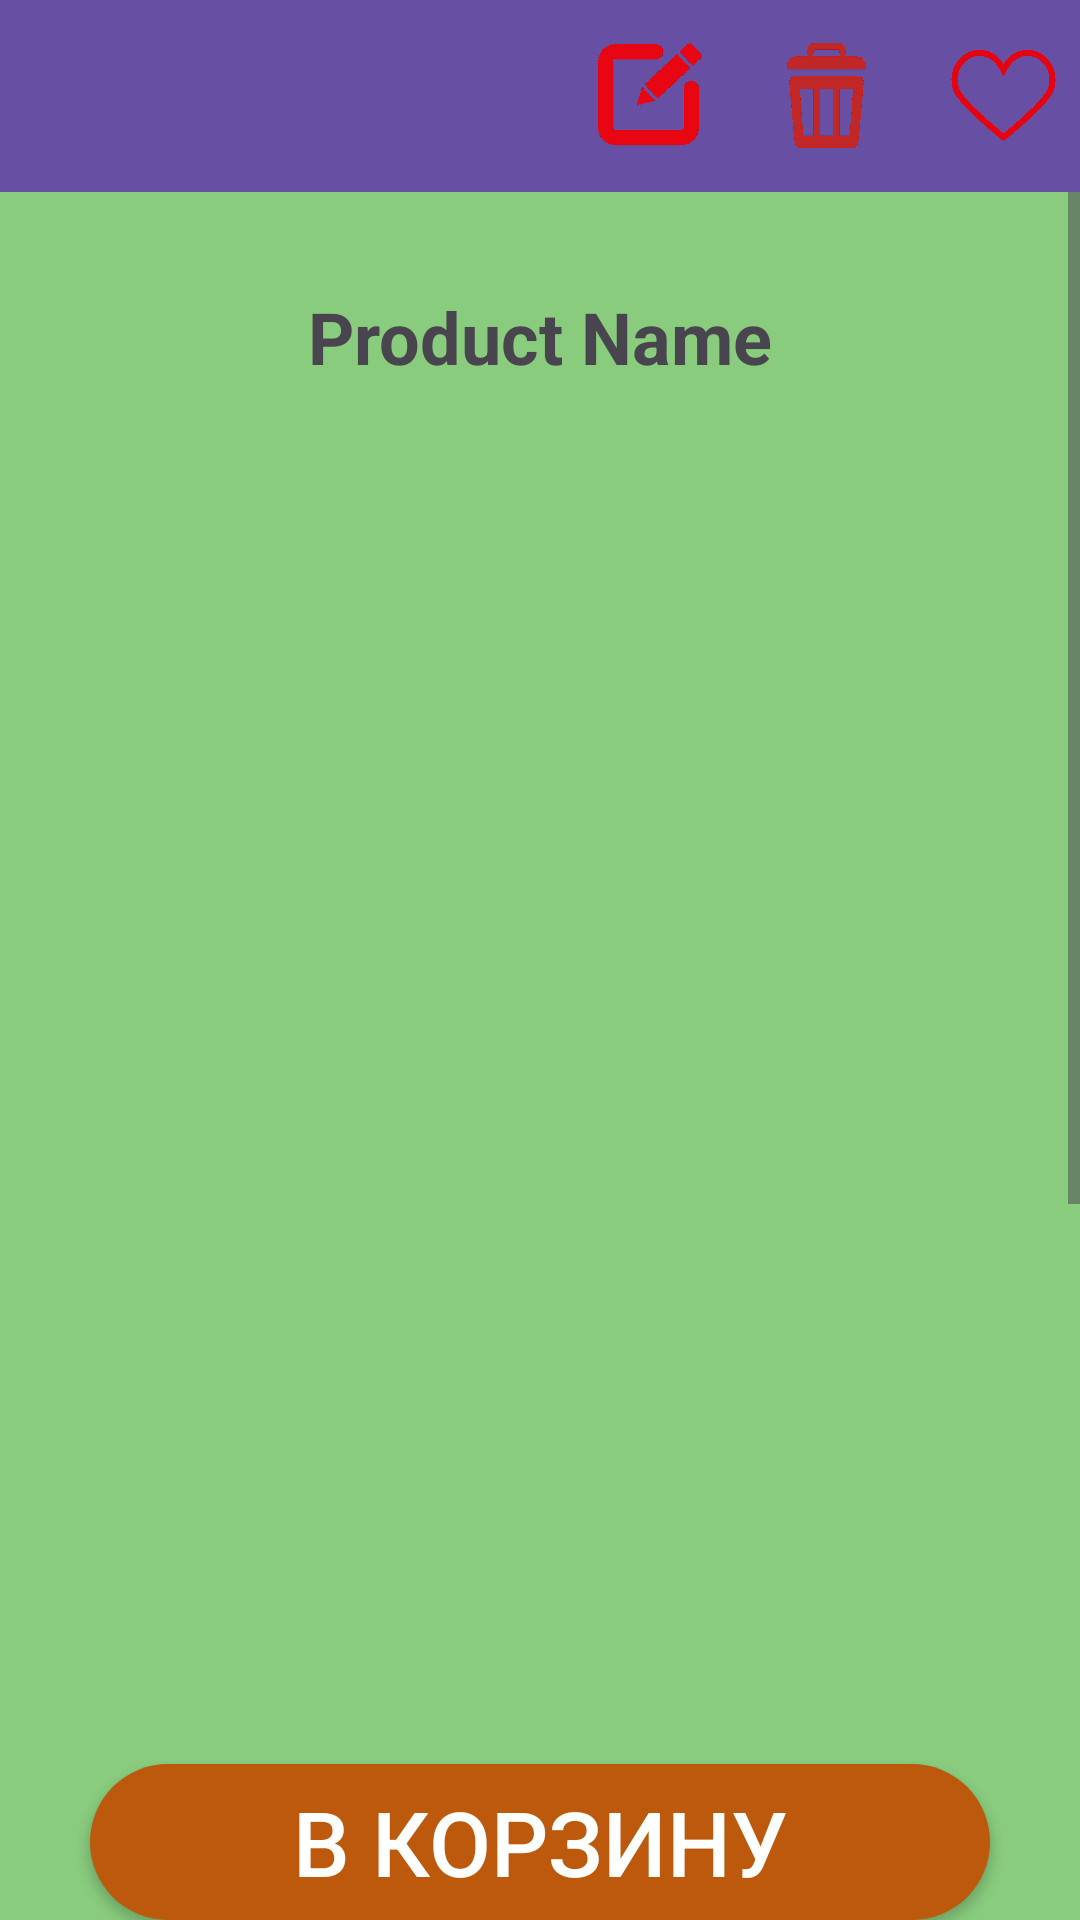

Point at icon controls on the screen. Image size 1080×1920, points as (x=x, y=y).
Delete Button: (x=826, y=95)
